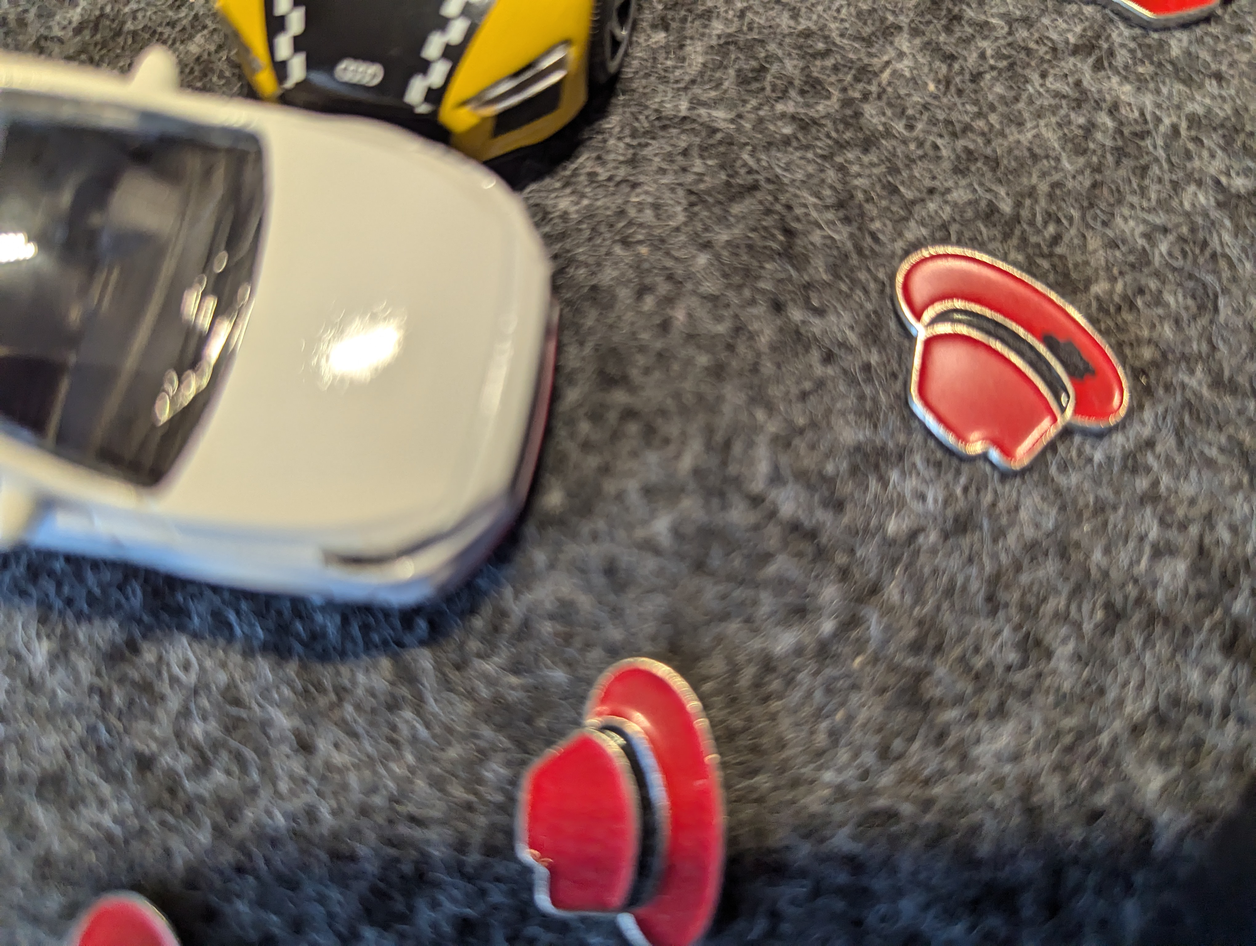Car: (0, 27, 647, 643)
Red-Hat: (491, 642, 768, 946), (871, 221, 1161, 482)
Scratch: (1030, 320, 1101, 387)
